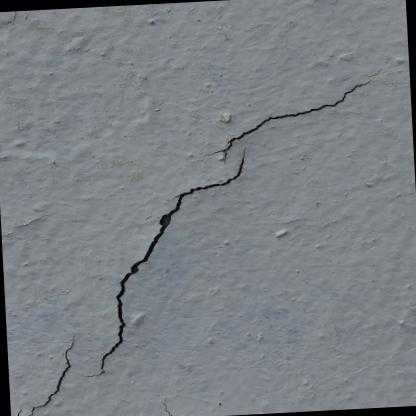crack: (78, 149, 245, 377), (208, 80, 369, 159), (28, 338, 75, 415), (14, 408, 22, 416)
